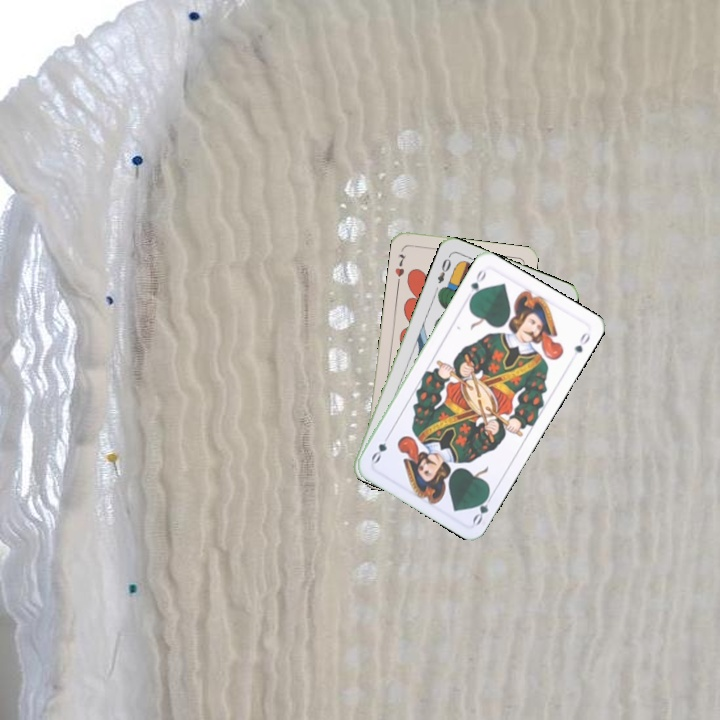EO: (433, 251, 454, 286)
GO: (468, 488, 496, 527), (465, 265, 489, 304)
H7: (391, 250, 408, 279)
